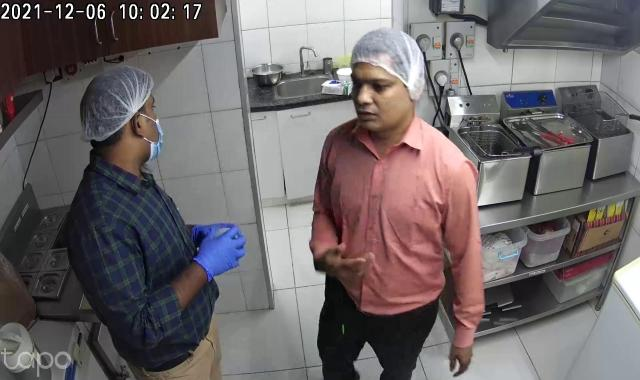hairnet: (347, 23, 430, 117), (75, 64, 156, 146)
